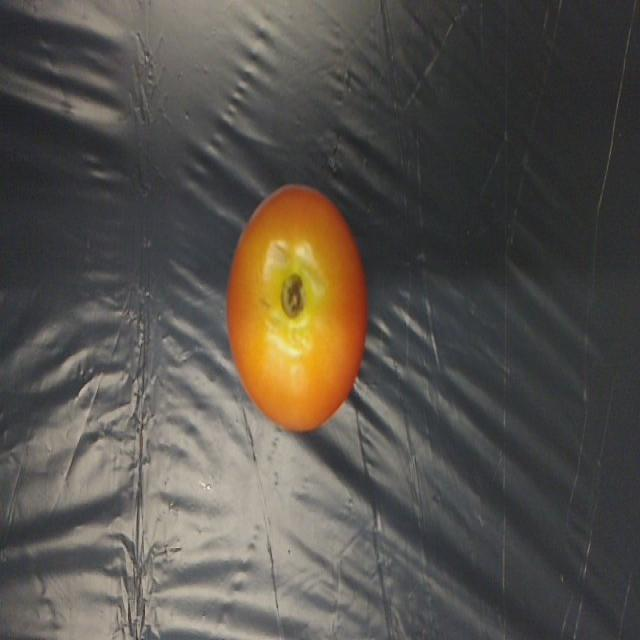sari: (224, 170, 394, 466)
